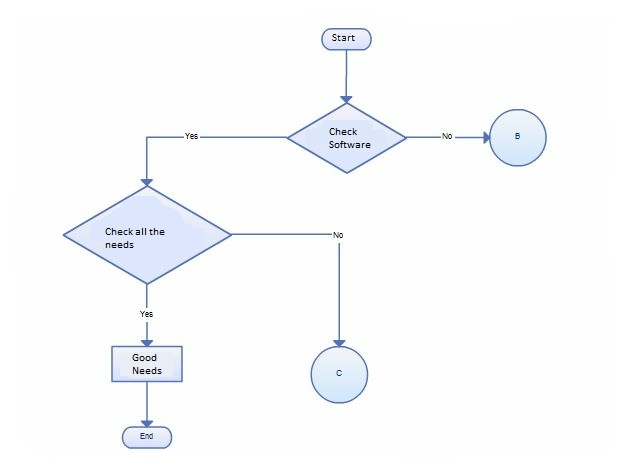arrow: (228, 229, 349, 347), (139, 132, 290, 187), (139, 282, 158, 349), (402, 130, 494, 142), (339, 49, 354, 106), (139, 380, 156, 428)
connection: (487, 107, 549, 169), (309, 345, 370, 405)
decision: (61, 184, 234, 286), (285, 101, 409, 175)
process: (109, 344, 186, 385)
terminator: (119, 425, 175, 450), (320, 27, 373, 51)
text: (102, 225, 168, 252), (327, 125, 374, 151), (130, 352, 164, 377), (330, 32, 358, 43), (137, 430, 157, 443), (181, 131, 203, 142), (139, 308, 156, 322), (329, 230, 348, 242), (439, 131, 459, 142), (334, 367, 346, 379), (514, 131, 521, 141)
